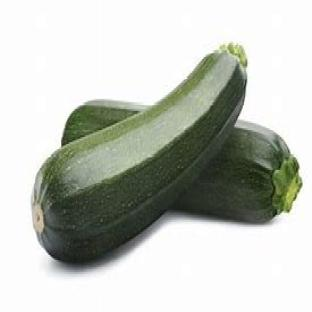Zucchini: (32, 46, 247, 261), (173, 122, 301, 221)
